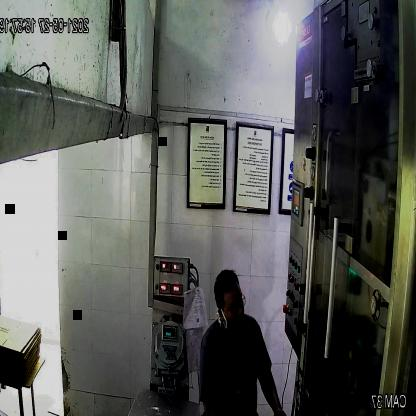goggles: (216, 293, 248, 317)
